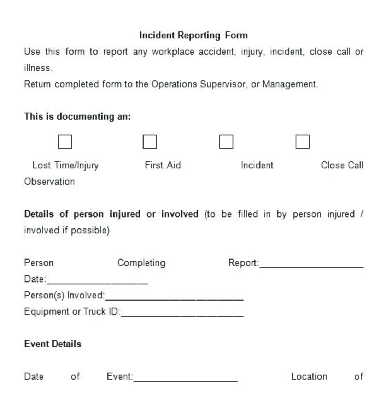checkbox: (215, 132, 239, 153), (292, 132, 313, 152), (138, 132, 160, 150), (56, 133, 75, 151)
textline: (132, 367, 242, 386), (104, 289, 246, 303), (259, 255, 369, 272), (119, 305, 246, 319), (46, 272, 152, 287)
